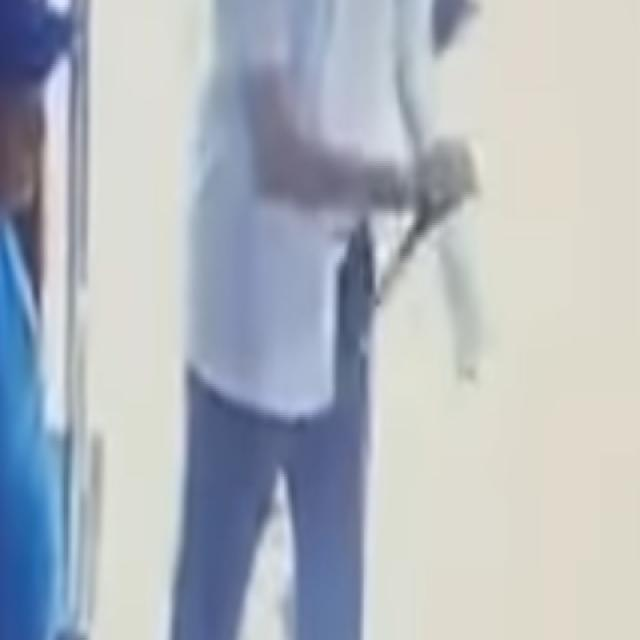Fknife: (357, 176, 459, 346)
